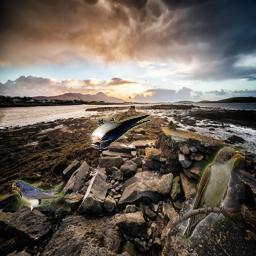Cuckoo: (173, 146, 245, 254)
Swallow: (87, 113, 152, 149), (12, 180, 71, 211)
